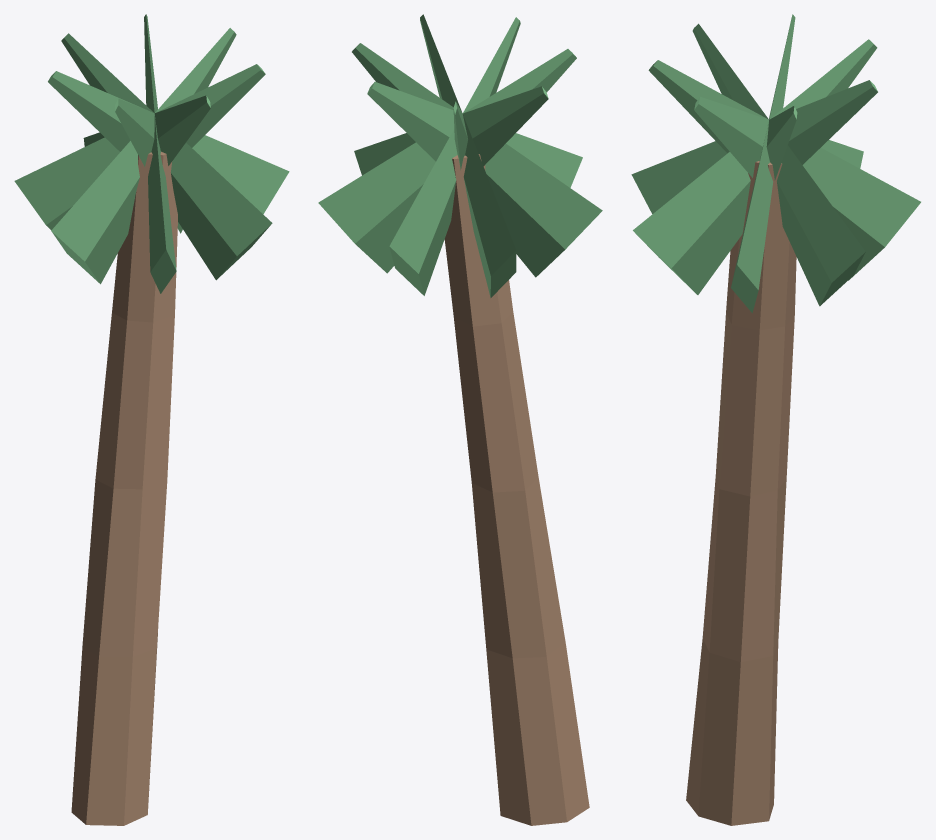
Rendered from 30_Palm.glb.
3 renders of one model, left to right at view 1: azimuth 30°, elevation 25°; view 2: azimuth 150°, elevation 25°; view 3: azimuth 270°, elevation 25°, orthographic. The views are drawn at different scales.
Visible parts, largest first — view 1: Palm_Trunk, Palm_Leaf5, Palm_Leaf3, Palm_Leaf2, Palm_Leaf6, Palm_Leaf4, Palm_Leaf1, Palm_Leaf7; view 2: Palm_Trunk, Palm_Leaf3, Palm_Leaf7, Palm_Leaf1, Palm_Leaf2, Palm_Leaf4, Palm_Leaf6, Palm_Leaf5; view 3: Palm_Trunk, Palm_Leaf5, Palm_Leaf7, Palm_Leaf1, Palm_Leaf4, Palm_Leaf6, Palm_Leaf2, Palm_Leaf3.
Part boxes in pixels (<box>): Palm_Trunk: <box>71,151,177,825</box>; Palm_Leaf5: <box>61,33,272,280</box>; Palm_Leaf3: <box>51,28,236,284</box>; Palm_Leaf2: <box>14,64,265,230</box>; Palm_Leaf6: <box>48,71,289,214</box>; Palm_Leaf4: <box>144,14,176,293</box>; Palm_Leaf1: <box>83,95,210,165</box>; Palm_Leaf7: <box>115,98,182,233</box>; Palm_Trunk: <box>444,154,589,825</box>; Palm_Leaf3: <box>352,43,602,277</box>; Palm_Leaf7: <box>318,49,576,273</box>; Palm_Leaf1: <box>389,17,520,295</box>; Palm_Leaf2: <box>420,14,516,297</box>; Palm_Leaf4: <box>367,82,582,187</box>; Palm_Leaf6: <box>354,86,548,175</box>; Palm_Leaf5: <box>453,101,467,170</box>; Palm_Trunk: <box>686,161,796,825</box>; Palm_Leaf5: <box>633,39,877,294</box>; Palm_Leaf7: <box>692,23,865,306</box>; Palm_Leaf1: <box>648,60,920,280</box>; Palm_Leaf4: <box>631,80,877,213</box>; Palm_Leaf6: <box>731,14,795,313</box>; Palm_Leaf2: <box>694,96,863,177</box>; Palm_Leaf3: <box>766,105,797,180</box>.
Bounding box in the file's own units: 0.7861 × 2.28 × 0.767.
